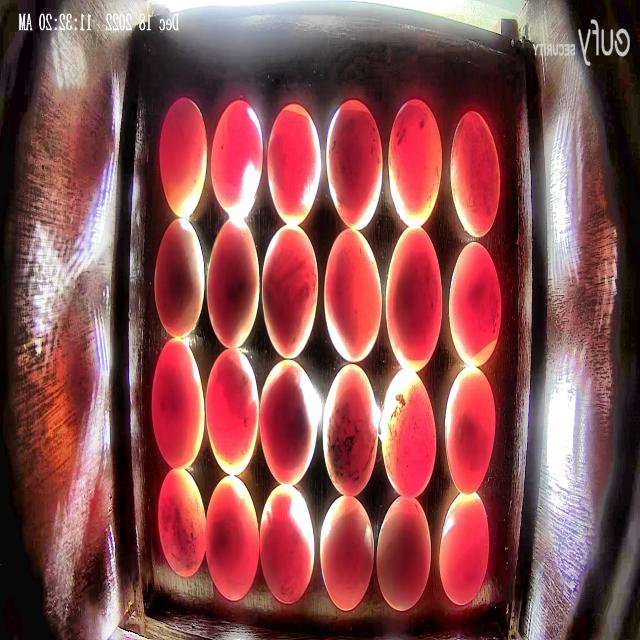FE: (385, 223, 443, 374), (324, 227, 383, 363), (325, 98, 384, 231), (259, 357, 319, 487), (261, 222, 318, 358), (381, 367, 438, 499), (323, 363, 378, 498), (206, 216, 260, 350), (151, 336, 205, 470), (204, 476, 260, 602), (388, 98, 442, 228), (205, 348, 259, 477), (448, 240, 502, 367), (267, 102, 322, 226), (259, 483, 314, 604), (444, 365, 495, 495), (376, 494, 432, 611), (450, 109, 500, 238), (319, 494, 374, 611), (210, 98, 264, 215), (158, 96, 208, 219), (154, 218, 205, 338), (438, 490, 488, 604), (158, 470, 205, 578)
